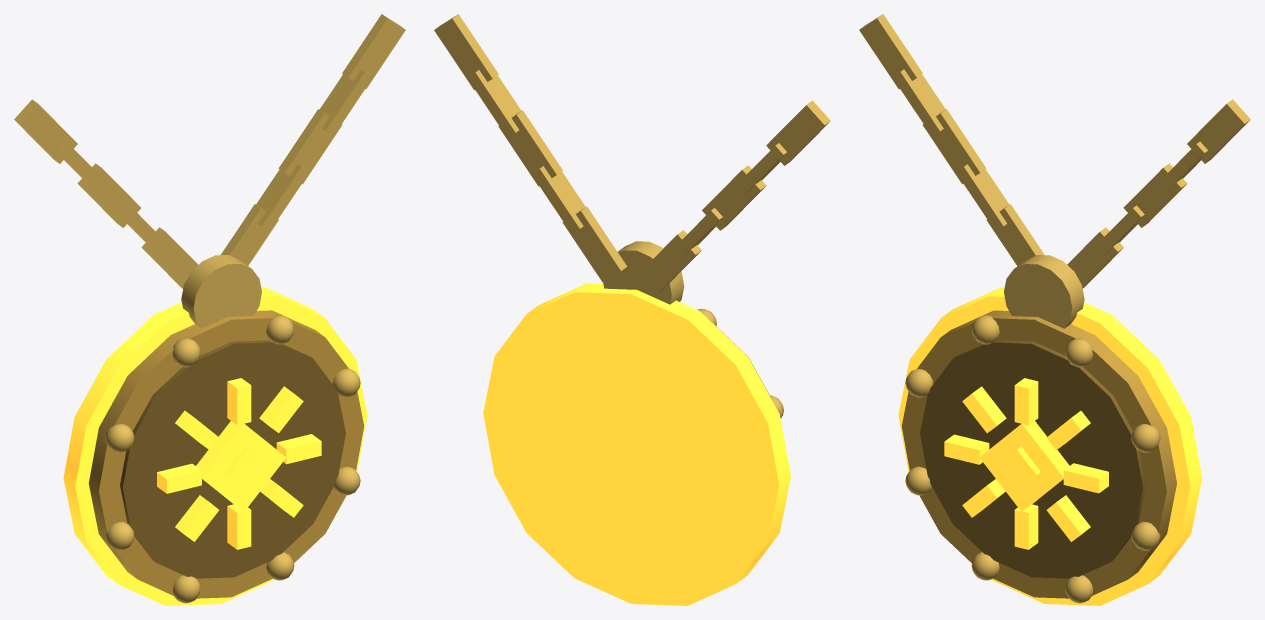
The picture shows the model from 3 angles, left to right: view 1: azimuth 30°, elevation 25°; view 2: azimuth 150°, elevation 25°; view 3: azimuth 330°, elevation 25°; orthographic projection.
Visible parts, largest first — view 1: rank-chad-e; view 2: rank-chad-e; view 3: rank-chad-e.
Part boxes in pixels (<box>): rank-chad-e: <box>14,14,405,605</box>; rank-chad-e: <box>434,14,830,605</box>; rank-chad-e: <box>859,14,1250,605</box>.
Size of the model in its own units: 0.2333 by 0.3103 by 0.0472.
